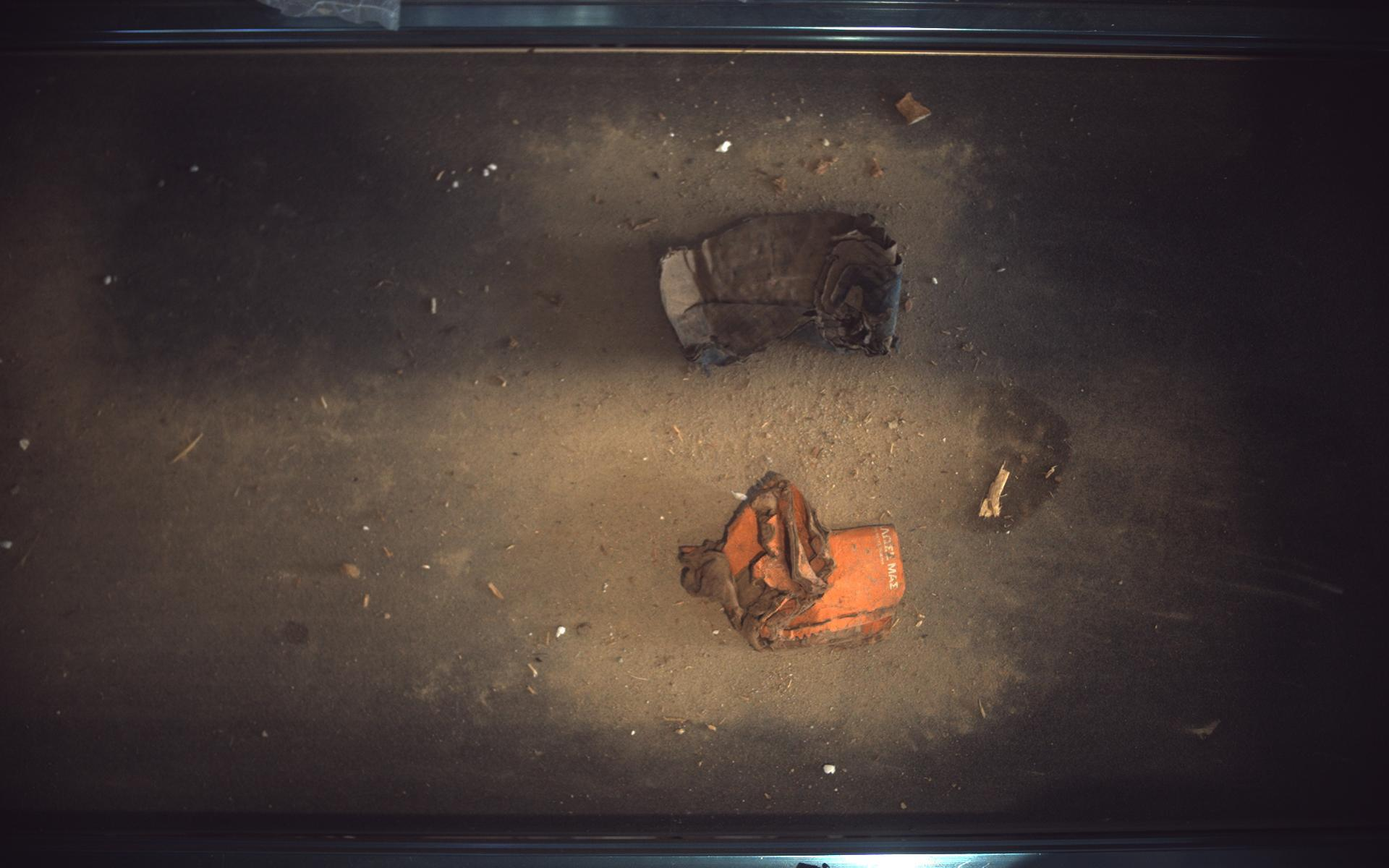general_w: (680, 472, 908, 650), (660, 210, 904, 371)
